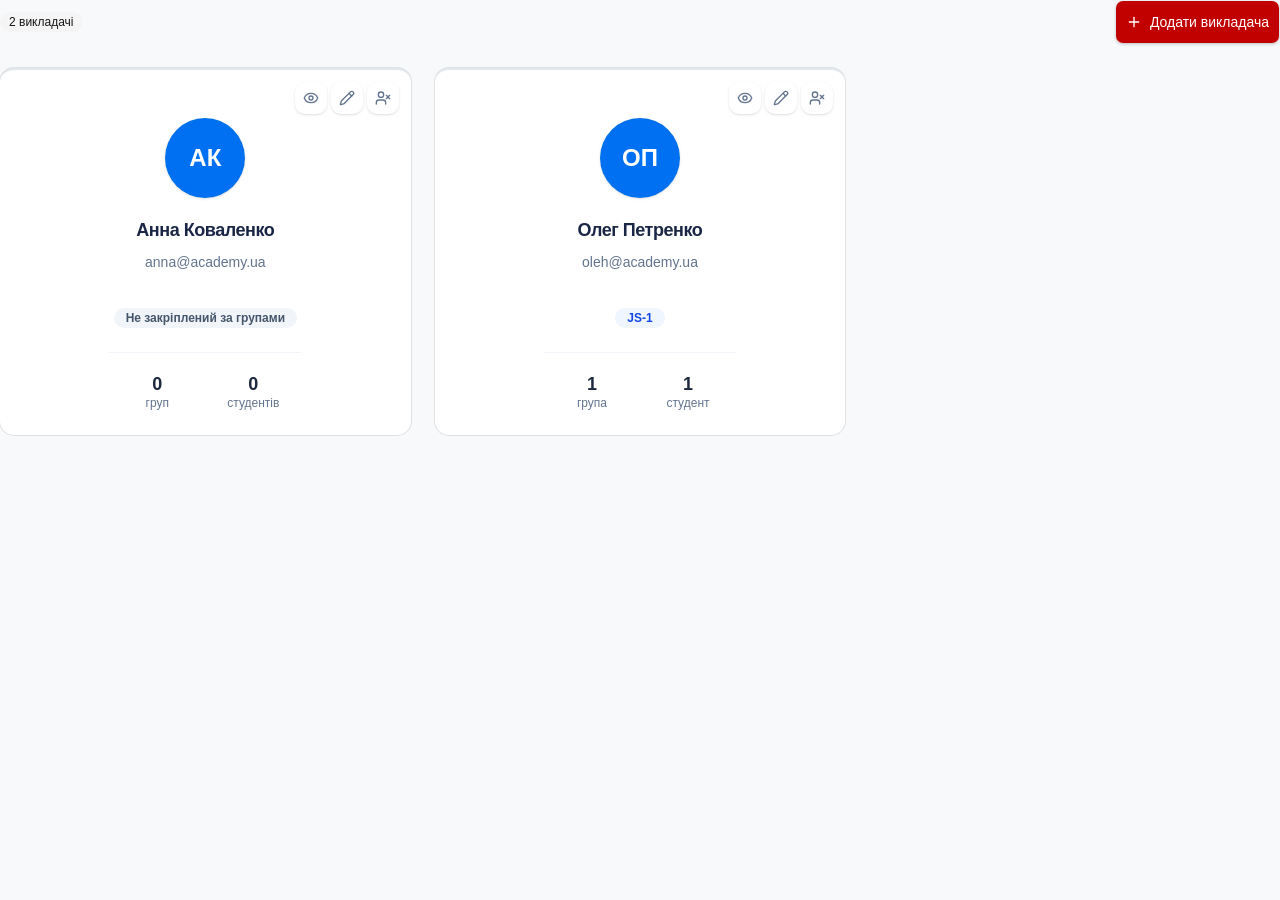
Scenario: a11y — сторінки без порушень axe › редагування викладача з аватаркою
Click the button named "Редагувати: Олег Петренко".
click(781, 98)  # box [765, 82, 797, 114]
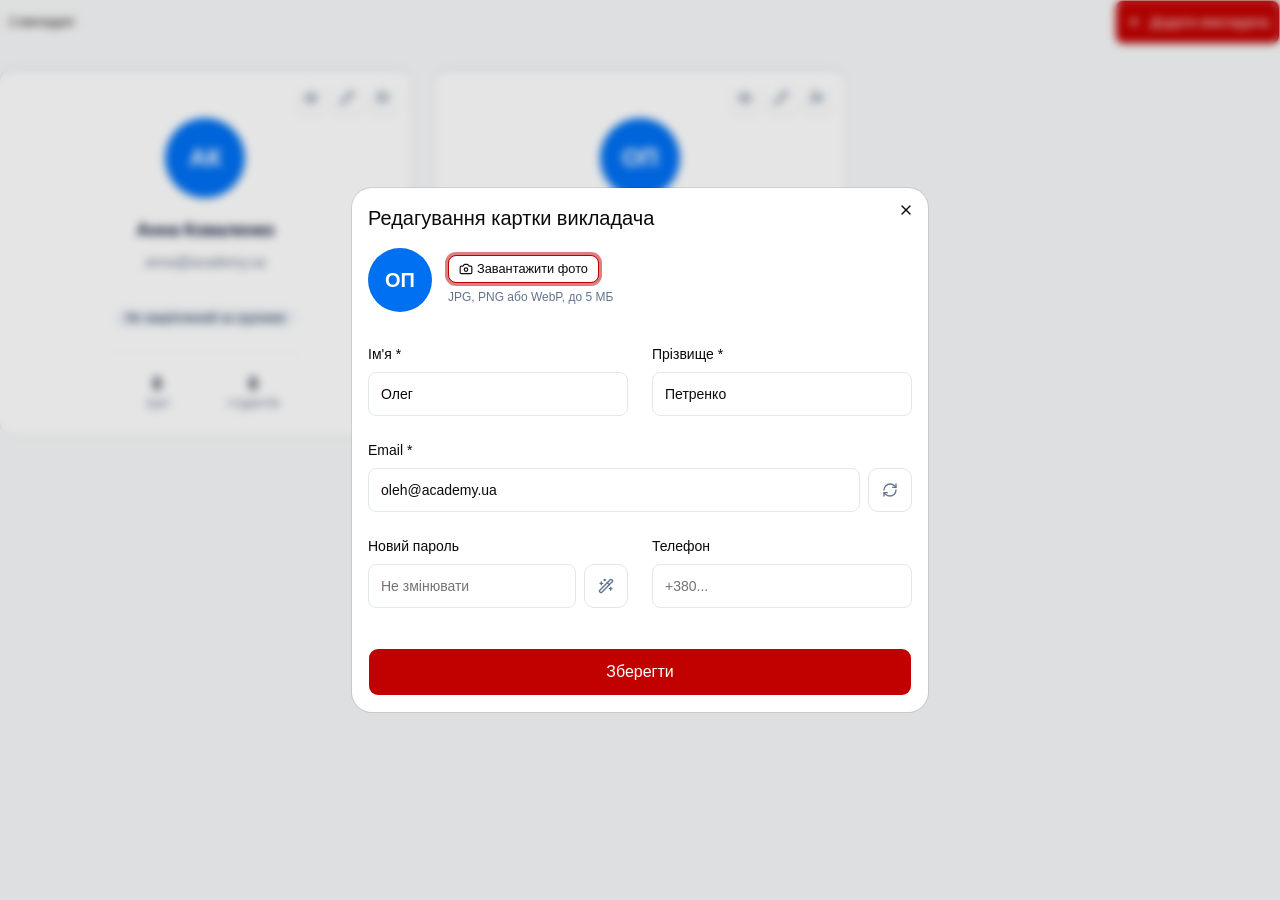
Now the button "Завантажити фото" is shown, box [448, 255, 599, 283]
